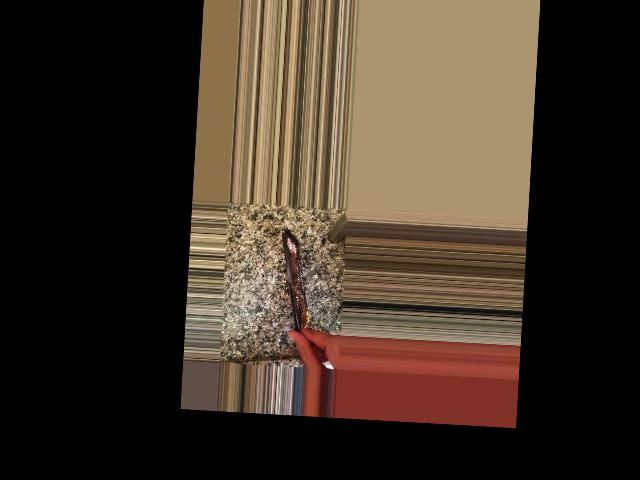chocolate: (269, 227, 322, 346)
